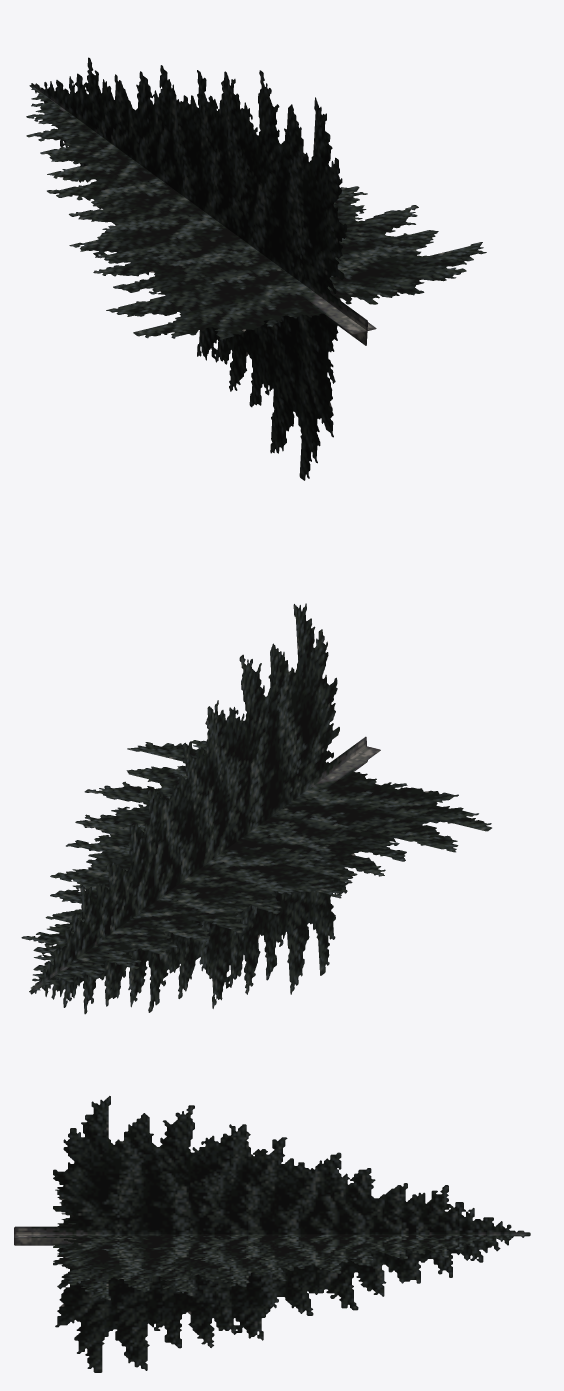
The model's file is SM_EC_Tree_Cross_01.fbx.
The picture shows the model from 3 angles, top to bottom: view 1: azimuth 30°, elevation 25°; view 2: azimuth 150°, elevation 25°; view 3: azimuth 270°, elevation 25°; orthographic projection. The views are drawn at different scales.
Parts seen in each view (by area): view 1: SM_EC_Tree_Cross_01; view 2: SM_EC_Tree_Cross_01; view 3: SM_EC_Tree_Cross_01.
Boxes of the visible parts, box(x1,y1,x2,y2) form: SM_EC_Tree_Cross_01: box(26, 57, 486, 480); SM_EC_Tree_Cross_01: box(21, 603, 491, 1014); SM_EC_Tree_Cross_01: box(14, 1096, 530, 1372).
Bounding box in the file's own units: 2.34 × 3.88 × 2.34.
